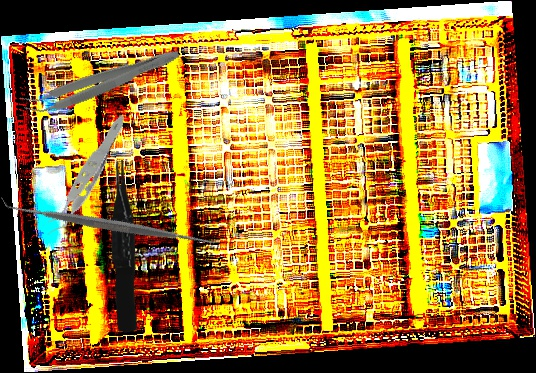Spatula Surgical: (0, 116, 220, 333)
Tissue Forceps: (10, 112, 158, 239), (19, 38, 183, 123), (109, 159, 140, 333)
